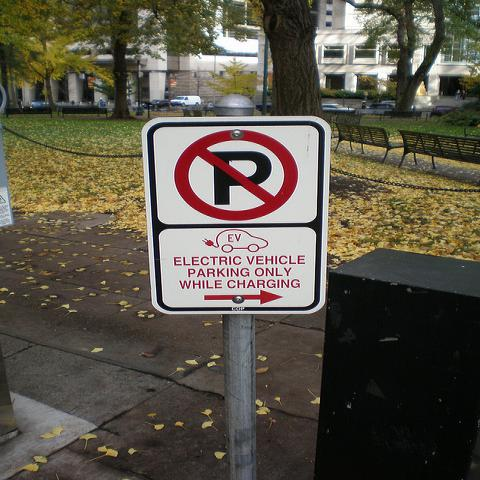car: (357, 103, 395, 115), (169, 95, 202, 106), (321, 103, 355, 113), (431, 105, 458, 117), (21, 101, 52, 110), (153, 99, 169, 108)
truck: (170, 95, 202, 107)
